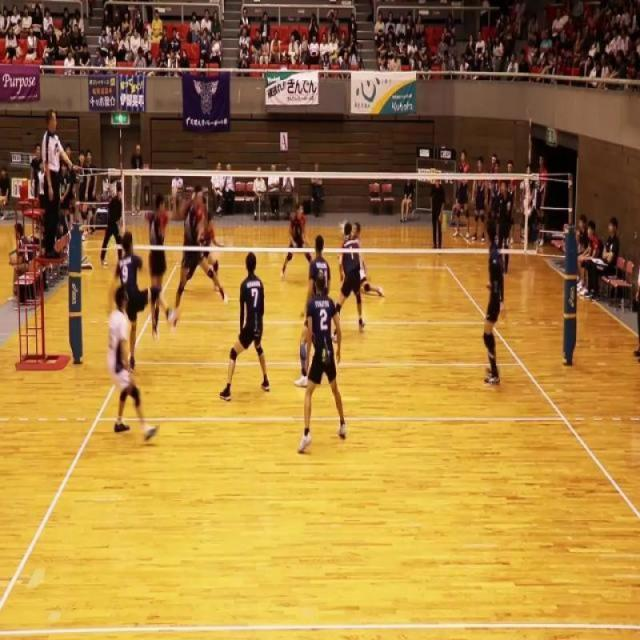volleyball: (340, 219, 348, 234)
